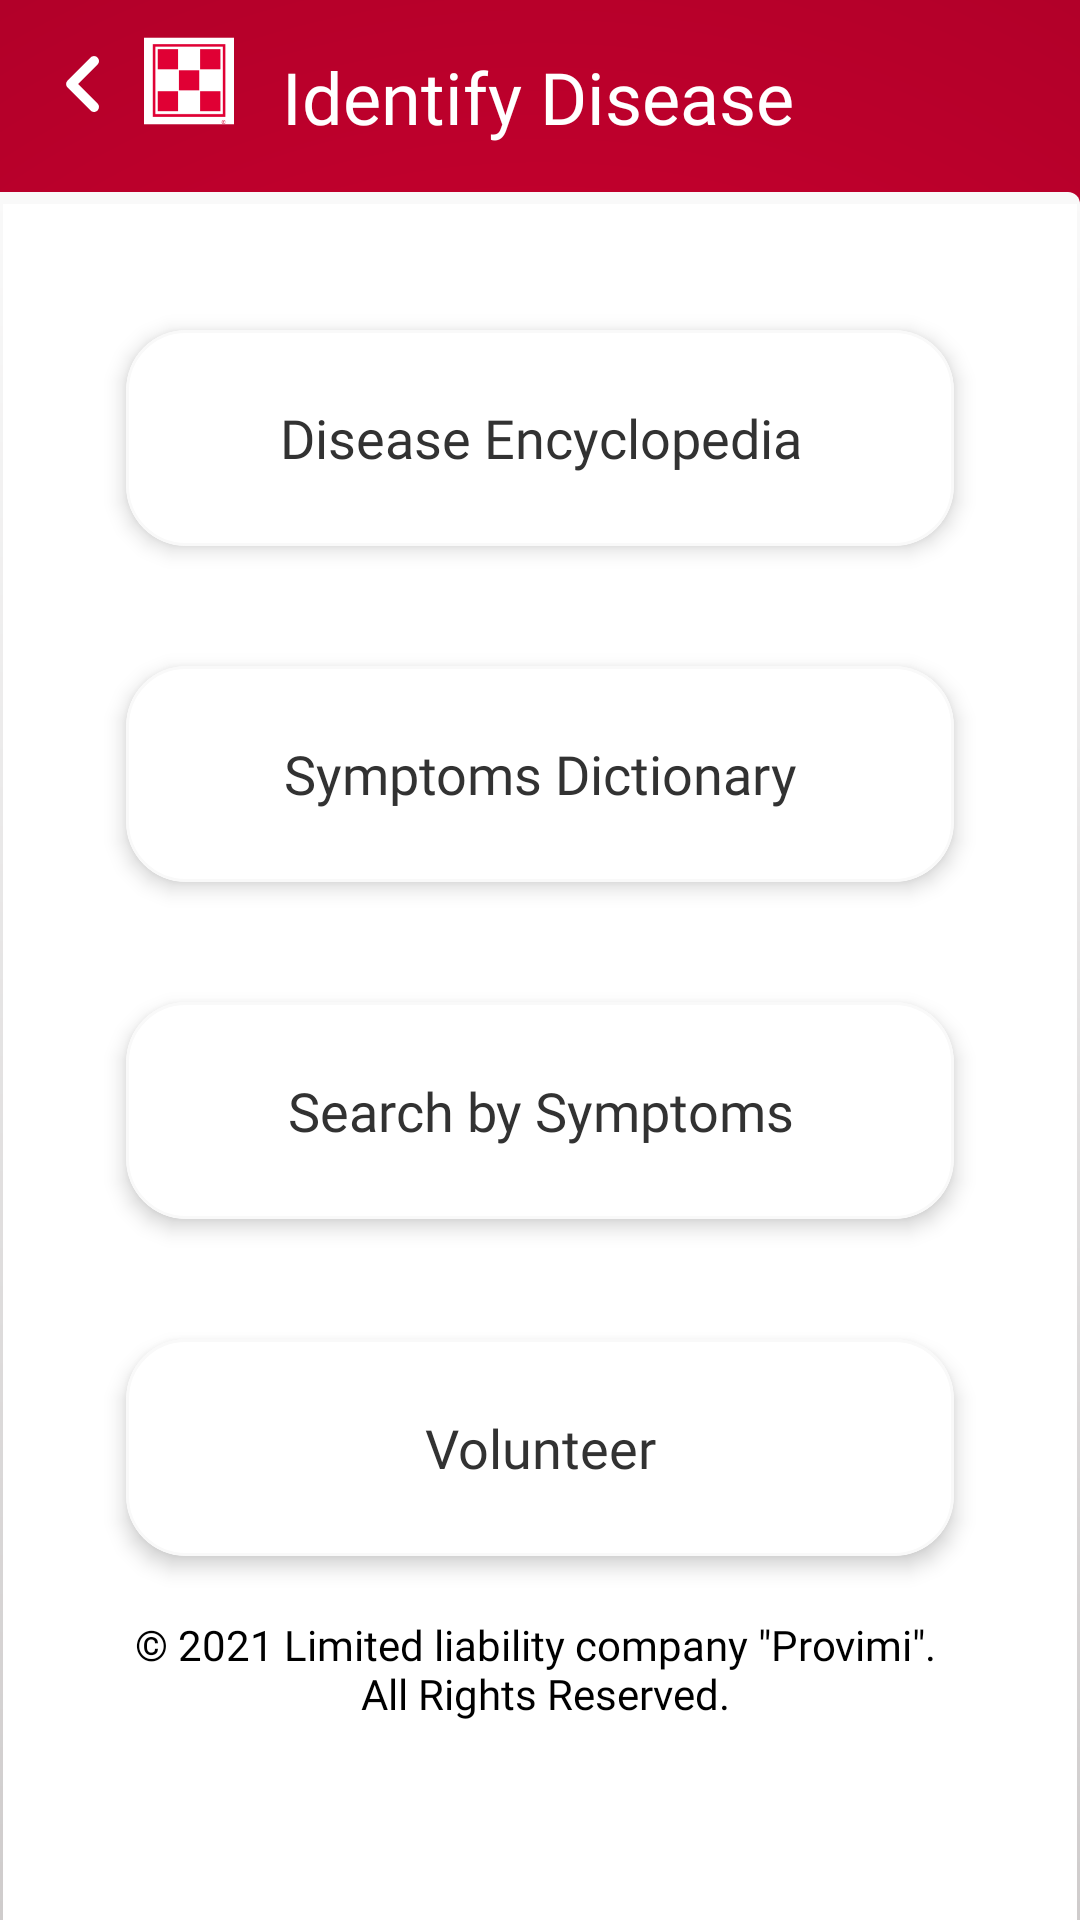

Where to tap for icons on this 1080px x 1920px app screen, as (x=x, y=y):
arrow left: (x=82, y=84)
